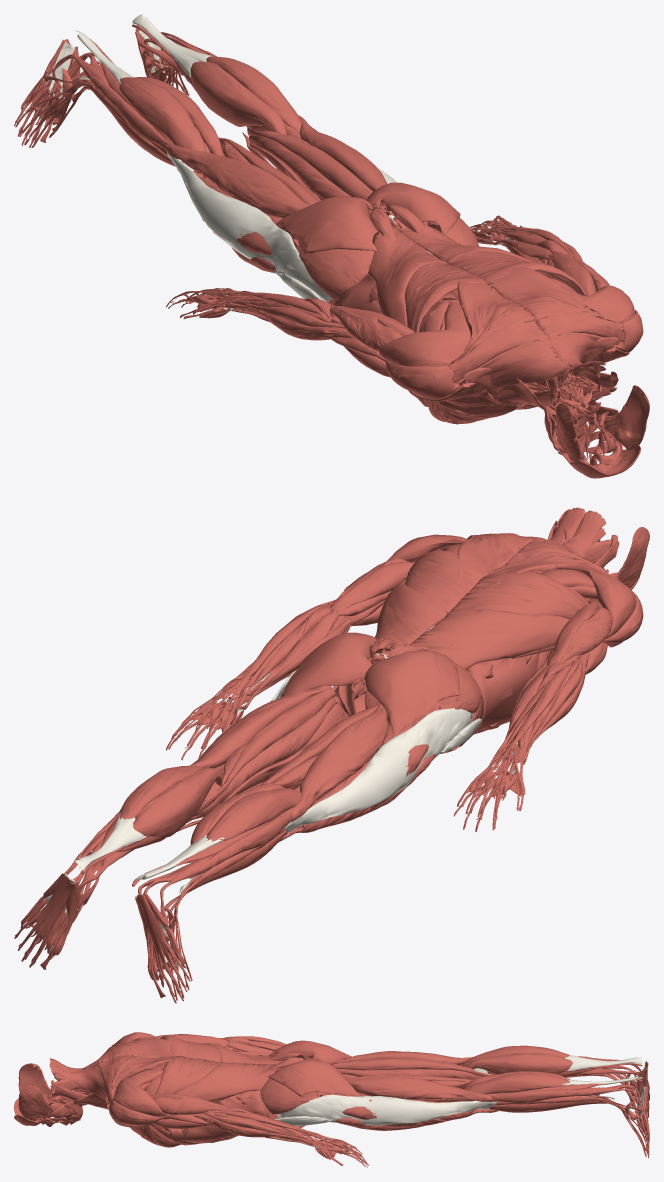
Rendered from anatomy.glb.
3 views of the same model, one above another, from view 1: azimuth 30°, elevation 25°; view 2: azimuth 150°, elevation 25°; view 3: azimuth 270°, elevation 25° (orthographic). The views are drawn at different scales.
Parts seen in each view (by area): view 1: right latissimus dorsi, right iliotibial tract, right gluteus maximus, long head of right biceps femoris, left latissimus dorsi, medial head of left gastrocnemius, lateral head of right gastrocnemius, ascending part of left trapezius, ascending part of right trapezius, descending part of right trapezius, spinal part of right deltoid, right gluteus medius (+28 smaller); view 2: right latissimus dorsi, right iliotibial tract, left latissimus dorsi, right gluteus maximus, long head of right biceps femoris, left gluteus maximus, medial head of left gastrocnemius, right external oblique, long head of left biceps femoris, lateral head of right gastrocnemius, left semimembranosus, left semitendinosus (+28 smaller); view 3: left latissimus dorsi, left iliotibial tract, long head of left biceps femoris, left gluteus maximus, medial head of right gastrocnemius, left external oblique, right latissimus dorsi, lateral head of left gastrocnemius, right semitendinosus, spinal part of left deltoid, left gluteus medius, ascending part of left trapezius (+39 smaller).
Boxes of the visible parts, box(x1,y1,x2,y2) form: right latissimus dorsi: box(367, 224, 488, 332); right iliotibial tract: box(166, 152, 332, 302); right gluteus maximus: box(276, 196, 379, 253); long head of right biceps femoris: box(165, 143, 309, 218); left latissimus dorsi: box(389, 217, 585, 295); medial head of left gastrocnemius: box(190, 61, 287, 134); lateral head of right gastrocnemius: box(119, 77, 204, 173); ascending part of left trapezius: box(463, 267, 606, 321); ascending part of right trapezius: box(457, 269, 536, 357); descending part of right trapezius: box(477, 339, 585, 387); spinal part of right deltoid: box(379, 329, 472, 367); right gluteus medius: box(296, 246, 373, 300); right latissimus dorsi: box(388, 571, 585, 669); right iliotibial tract: box(284, 708, 473, 832); left latissimus dorsi: box(374, 550, 487, 656); right gluteus maximus: box(364, 650, 460, 737); long head of right biceps femoris: box(291, 704, 388, 821); left gluteus maximus: box(280, 632, 376, 697); medial head of left gastrocnemius: box(133, 767, 222, 837); right external oblique: box(459, 653, 547, 746); long head of left biceps femoris: box(190, 686, 331, 768); lateral head of right gastrocnemius: box(206, 788, 301, 841); left semimembranosus: box(195, 697, 336, 816); left semitendinosus: box(193, 687, 335, 816); left latissimus dorsi: box(155, 1056, 279, 1102); left iliotibial tract: box(277, 1094, 497, 1125); long head of left biceps femoris: box(346, 1076, 492, 1101); left gluteus maximus: box(268, 1058, 360, 1097); medial head of right gastrocnemius: box(465, 1054, 572, 1074); left external oblique: box(165, 1090, 270, 1145); right latissimus dorsi: box(160, 1035, 283, 1064); lateral head of left gastrocnemius: box(466, 1072, 569, 1094); right semitendinosus: box(332, 1058, 491, 1076); spinal part of left deltoid: box(113, 1077, 170, 1116); left gluteus medius: box(260, 1078, 317, 1114); ascending part of left trapezius: box(111, 1055, 201, 1095).
Size of the model in its own units: 639 by 251 by 1672.
